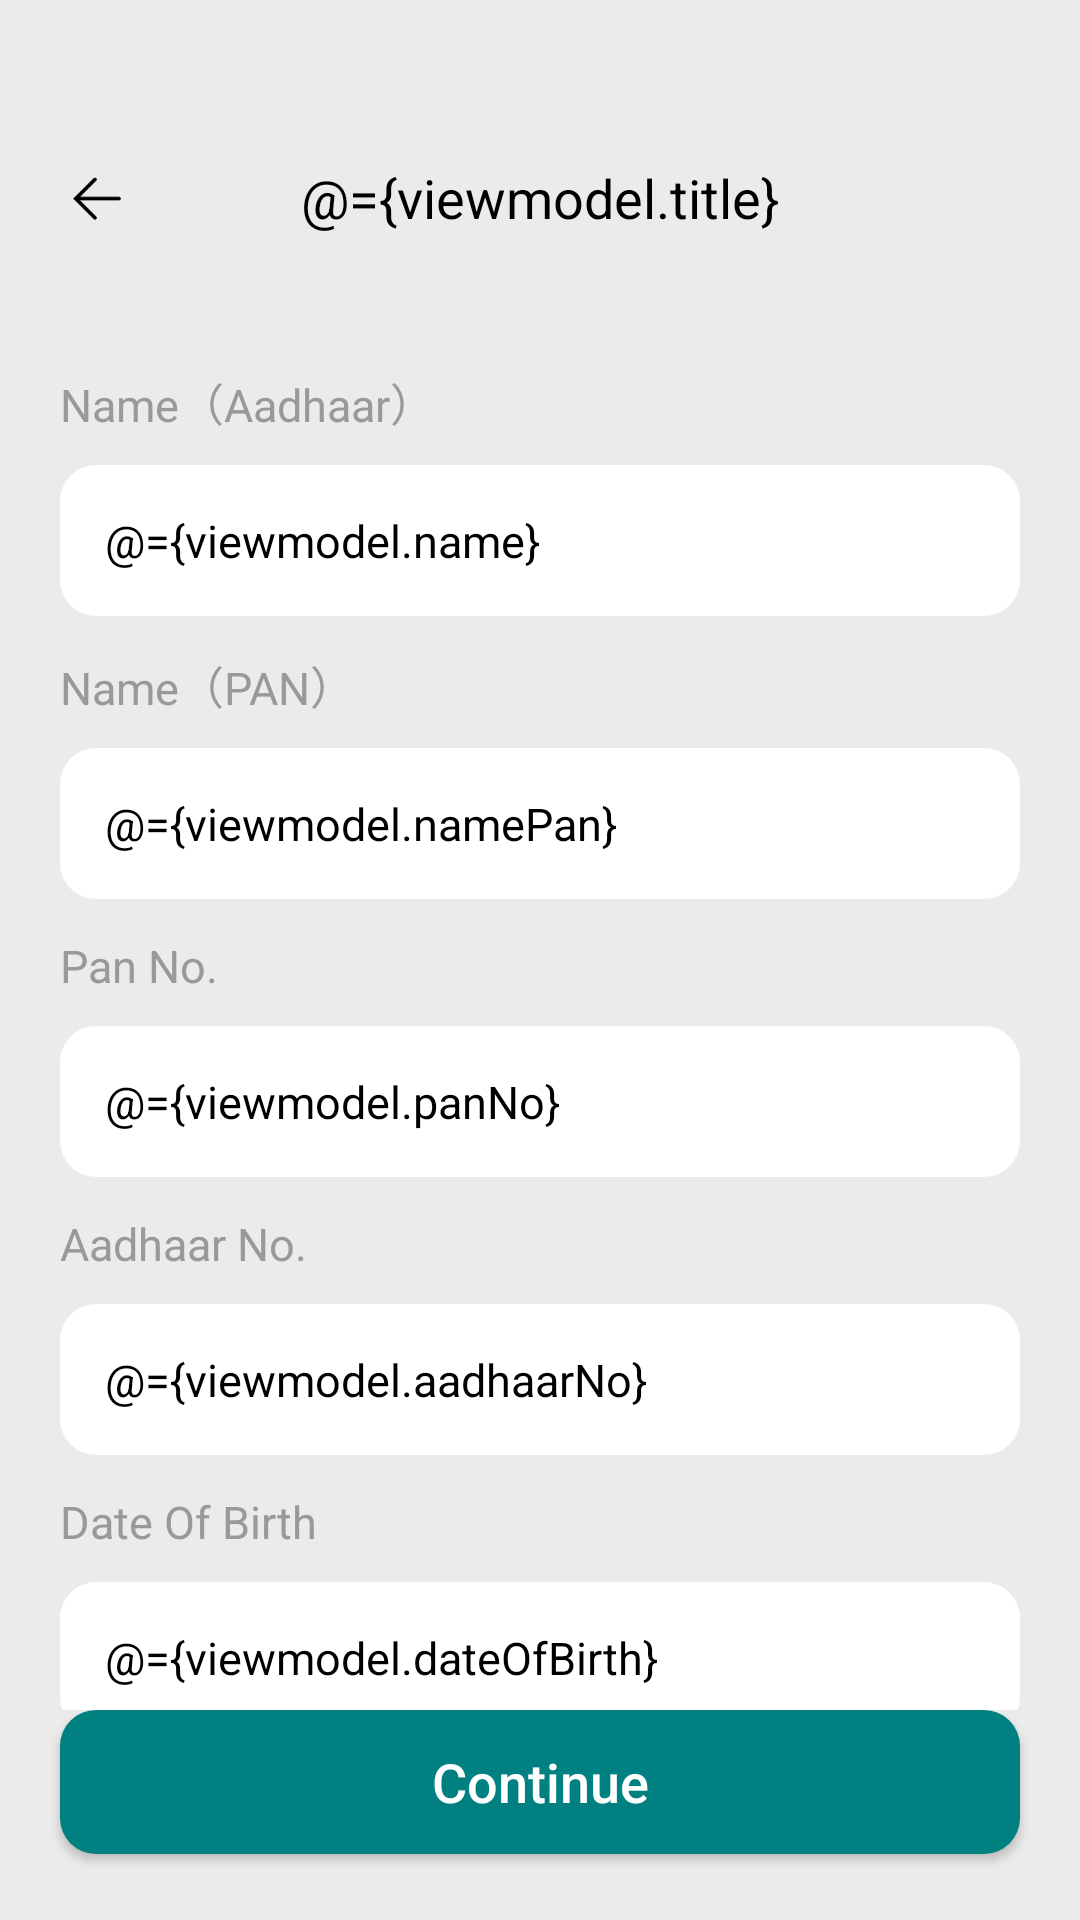

Icons on this 1080px x 1920px Android screen, each with the point to tap as [x,y]:
back: [97,198]
